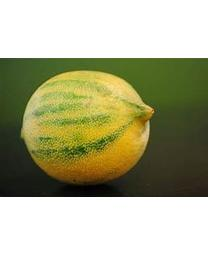lemon: (21, 70, 153, 187)
